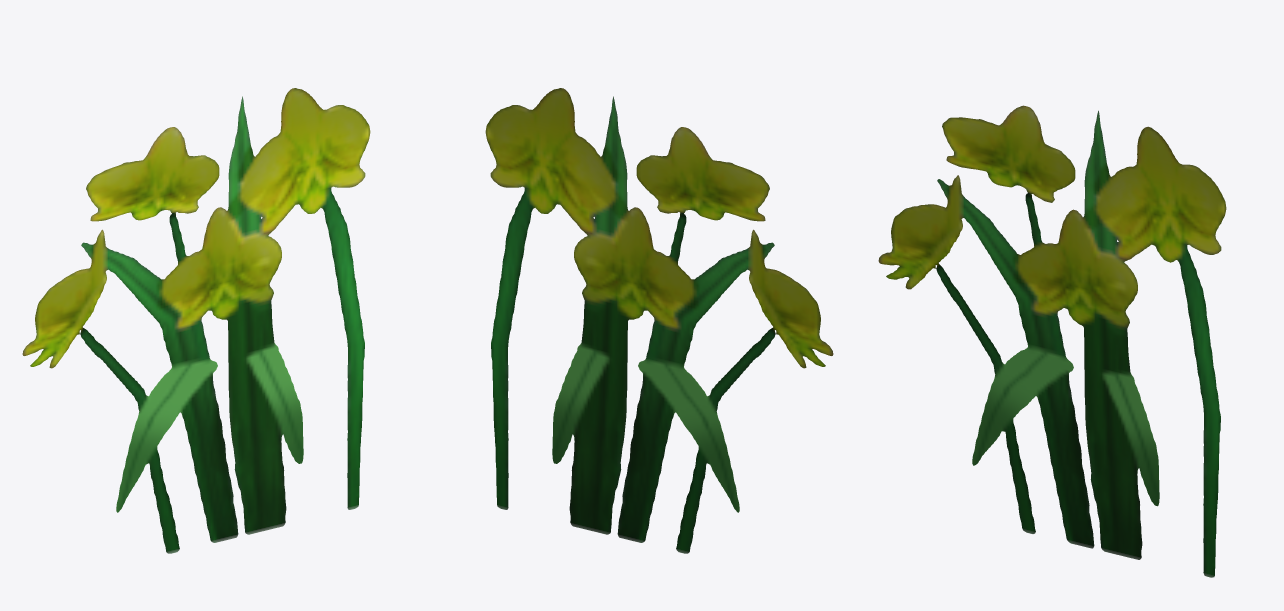
3 views of the same model, side by side, from view 1: azimuth 30°, elevation 25°; view 2: azimuth 150°, elevation 25°; view 3: azimuth 330°, elevation 25° (orthographic).
Parts seen in each view (by area): view 1: 草丛002; view 2: 草丛002; view 3: 草丛002.
Part boxes in pixels (x1=…): 草丛002: x1=22, y1=88, x2=370, y2=553; 草丛002: x1=485, y1=88, x2=833, y2=553; 草丛002: x1=878, y1=105, x2=1226, y2=577.
Bounding box in the file's own units: 64.03 × 74.28 × 1.21e-05.
Materials: 1 (1 with a texture image).
